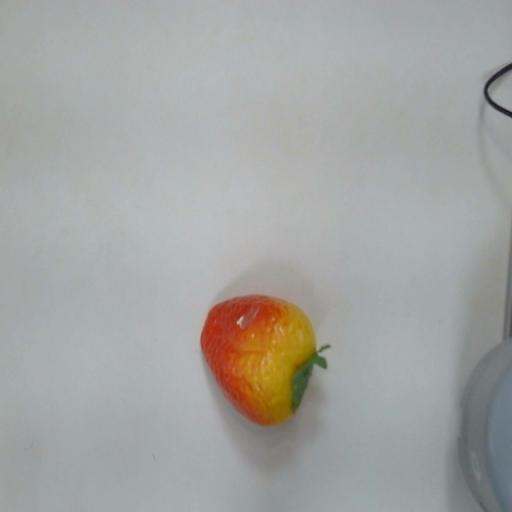Ripe: (204, 292, 330, 424)
